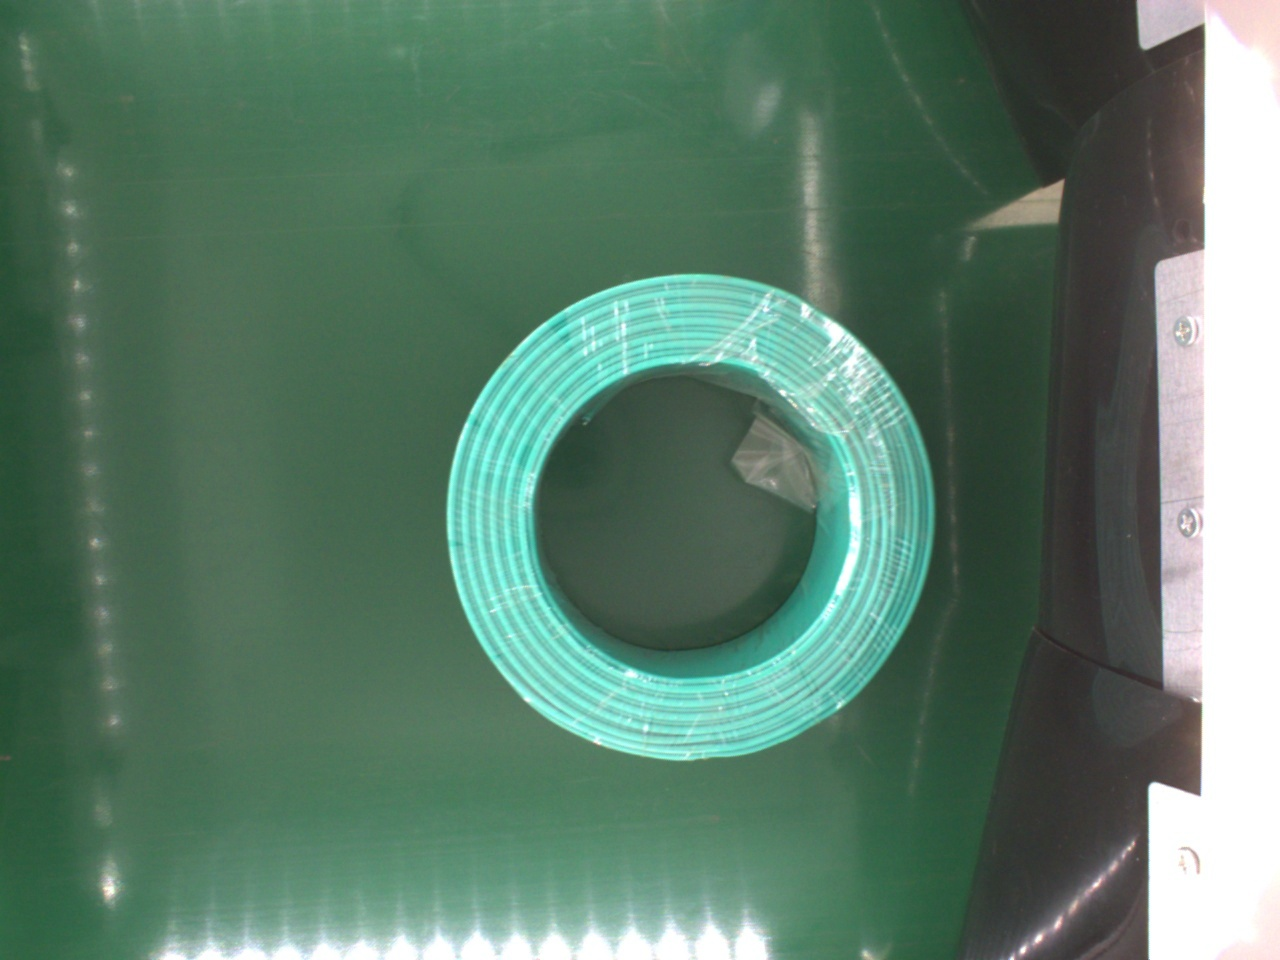green: (447, 268, 937, 769)
